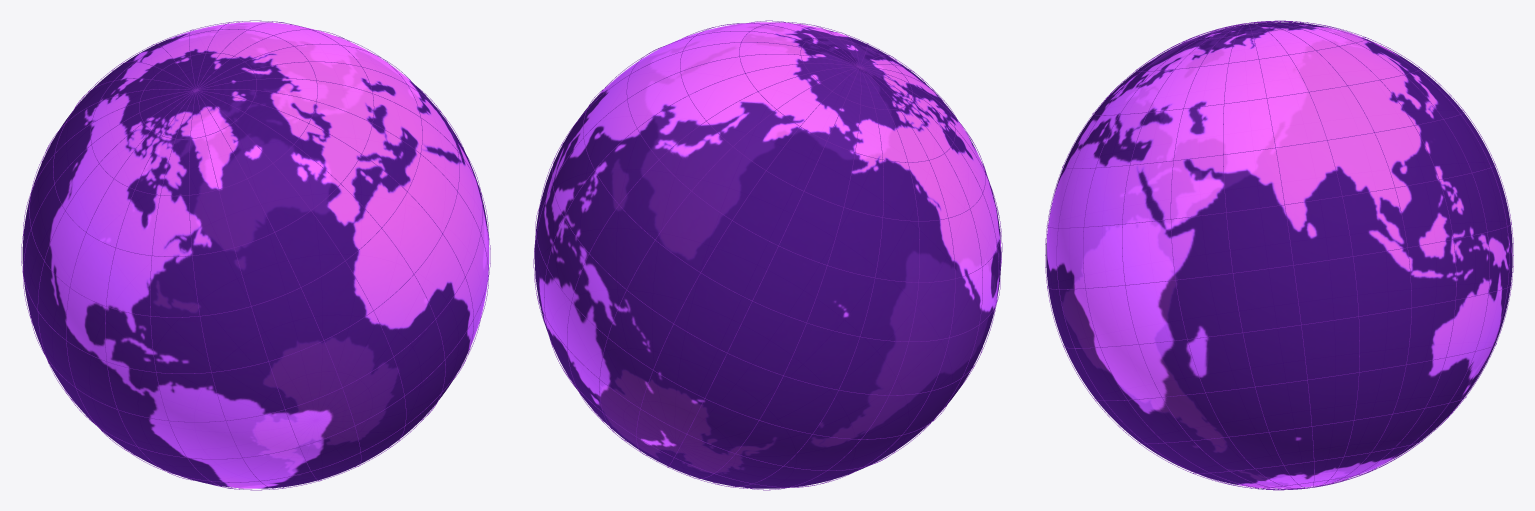
File: Globe.glb
The picture shows the model from 3 angles, left to right: view 1: azimuth 30°, elevation 25°; view 2: azimuth 150°, elevation 25°; view 3: azimuth 270°, elevation 25°; orthographic projection.
Visible parts, largest first — view 1: Earth Globe, Globe Hologram Grid; view 2: Earth Globe, Globe Hologram Grid; view 3: Earth Globe, Globe Hologram Grid.
Boxes of the visible parts, x1=… form: Earth Globe: x1=22, y1=22, x2=489, y2=488; Globe Hologram Grid: x1=21, y1=20, x2=490, y2=490; Earth Globe: x1=534, y1=22, x2=1001, y2=488; Globe Hologram Grid: x1=533, y1=20, x2=1002, y2=490; Earth Globe: x1=1046, y1=22, x2=1512, y2=488; Globe Hologram Grid: x1=1045, y1=20, x2=1513, y2=490.
Size of the model in its own units: 3.1 by 3.1 by 3.1.
5 materials, 1 textured.
